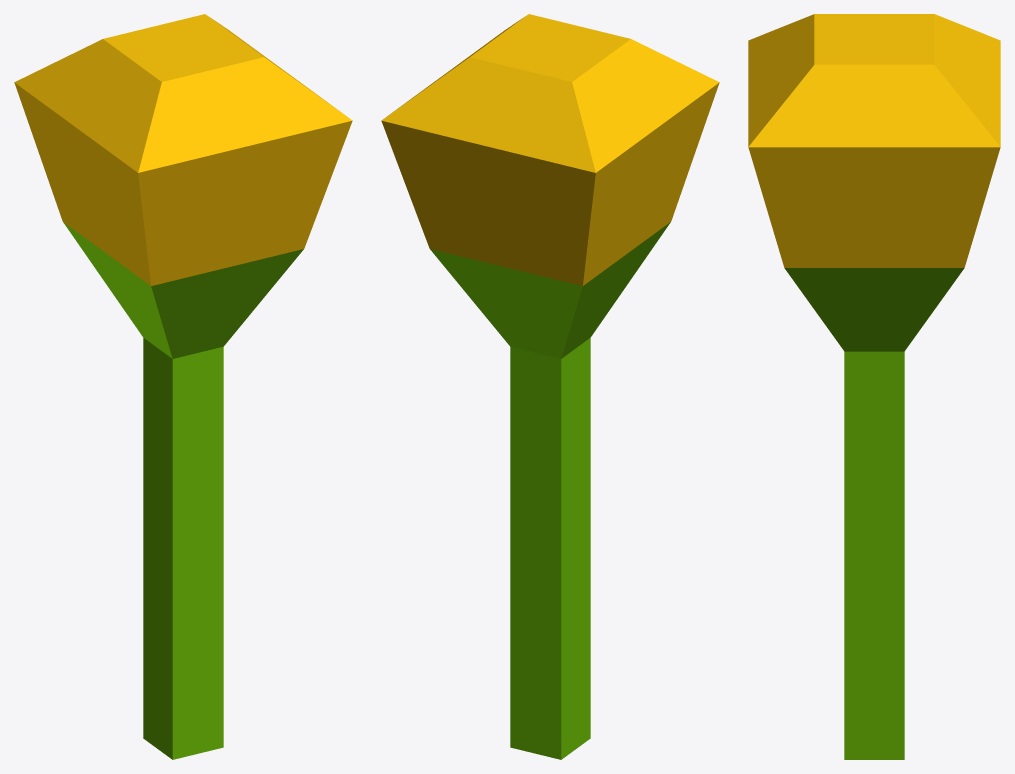
Rendered from Flower_01_Bud.fbx.
The picture shows the model from 3 angles, left to right: view 1: azimuth 30°, elevation 25°; view 2: azimuth 150°, elevation 25°; view 3: azimuth 270°, elevation 25°; orthographic projection.
Visible parts, largest first — view 1: Flower_01_Bud; view 2: Flower_01_Bud; view 3: Flower_01_Bud.
Part boxes in pixels (x1,y1,x2,y2): Flower_01_Bud: (14, 14, 352, 759); Flower_01_Bud: (381, 14, 719, 759); Flower_01_Bud: (748, 14, 1000, 759).
Size of the model in its own units: 8.4 by 26 by 8.4.
